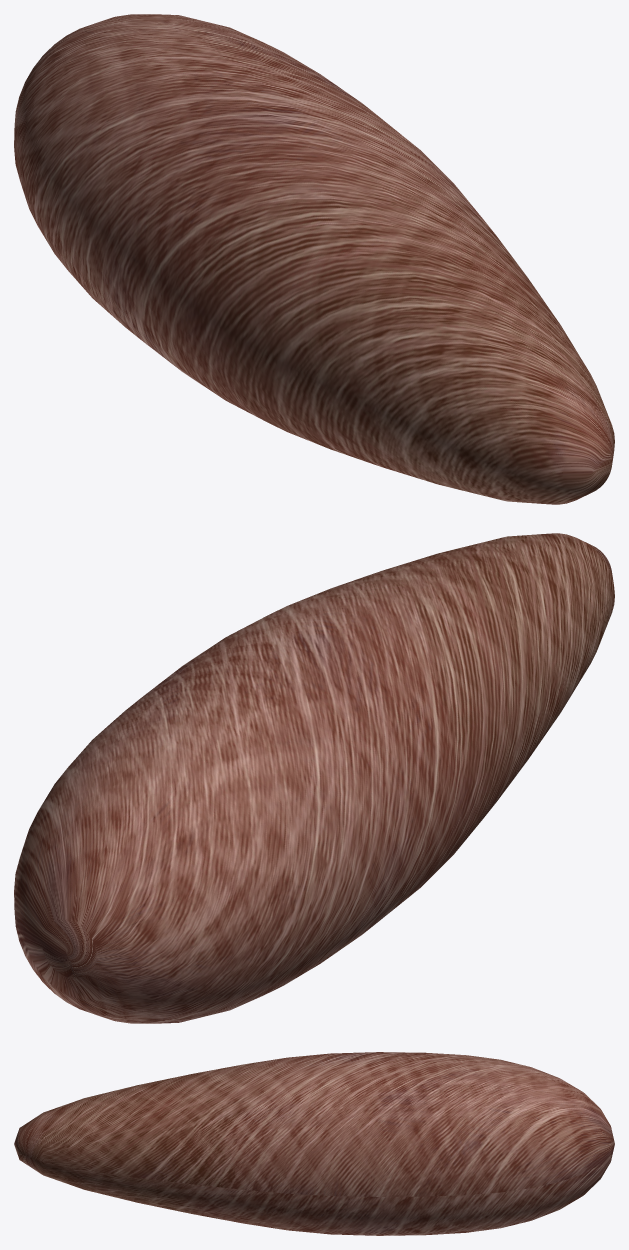
The model's file is Szyszka1.FBX.
3 renders of one model, top to bottom at view 1: azimuth 30°, elevation 25°; view 2: azimuth 150°, elevation 25°; view 3: azimuth 270°, elevation 25°, orthographic. The views are drawn at different scales.
Visible parts, largest first — view 1: Sphere001; view 2: Sphere001; view 3: Sphere001.
Part boxes in pixels (left/top/right/bottom): Sphere001: left=14, top=14, right=614, bottom=504; Sphere001: left=14, top=533, right=614, bottom=1023; Sphere001: left=14, top=1052, right=614, bottom=1235.
Bounding box in the file's own units: 23.29 × 23.29 × 75.86.
Materials: 1 (1 with a texture image).
